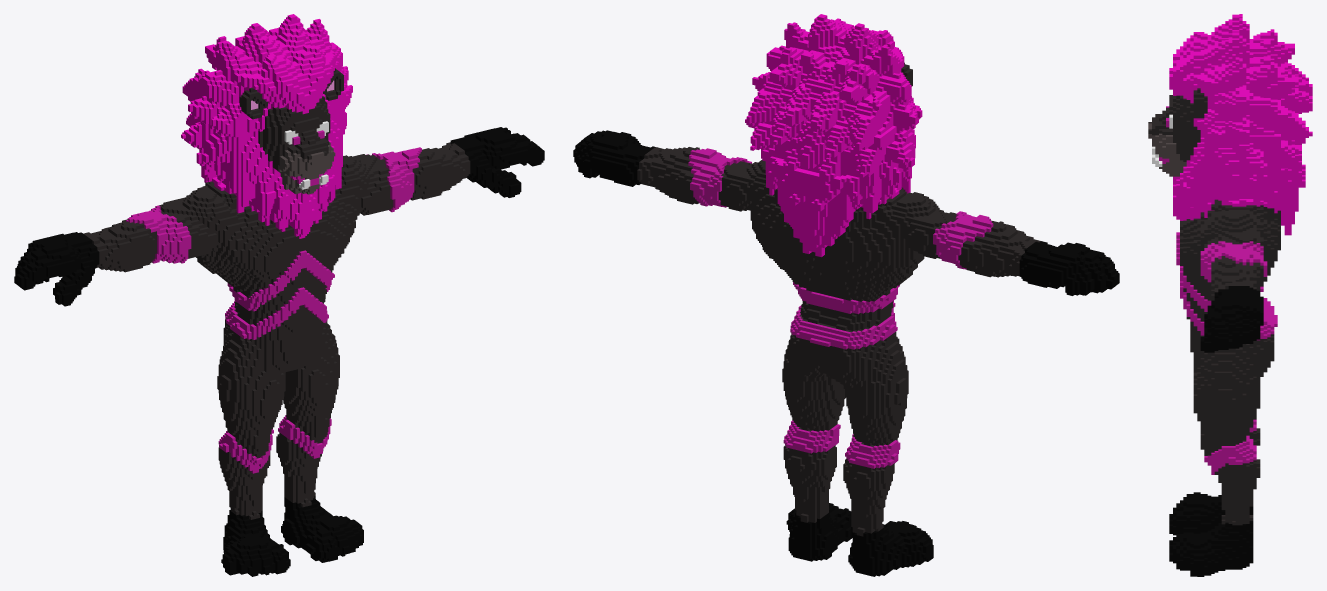
The model's file is 111-BN6DMwMs.glb.
The picture shows the model from 3 angles, left to right: view 1: azimuth 30°, elevation 25°; view 2: azimuth 150°, elevation 25°; view 3: azimuth 270°, elevation 25°; orthographic projection. The views are drawn at different scales.
Visible parts, largest first — view 1: black_pink; view 2: black_pink; view 3: black_pink.
Part boxes in pixels (x1,y1,x2,y2): black_pink: (14, 14, 544, 576); black_pink: (573, 14, 1119, 576); black_pink: (1148, 14, 1312, 576).
Bounding box in the file's own units: 17.2 × 16.5 × 4.7.
Materials: 1 (1 with a texture image).
